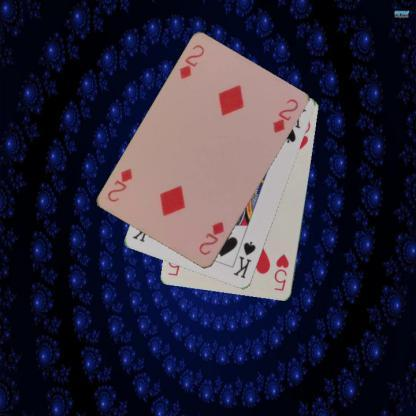2d: (176, 42, 206, 82), (196, 219, 226, 257)
5h: (272, 252, 290, 292)
Ks: (230, 238, 258, 280)
